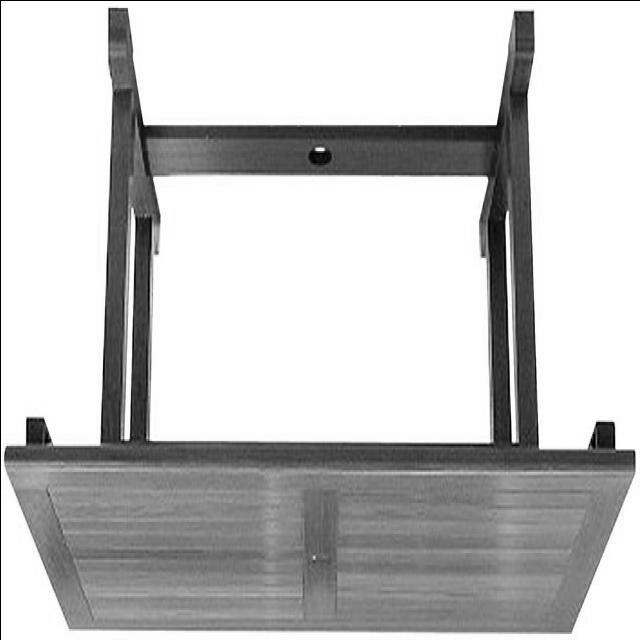table: (6, 5, 634, 638)
